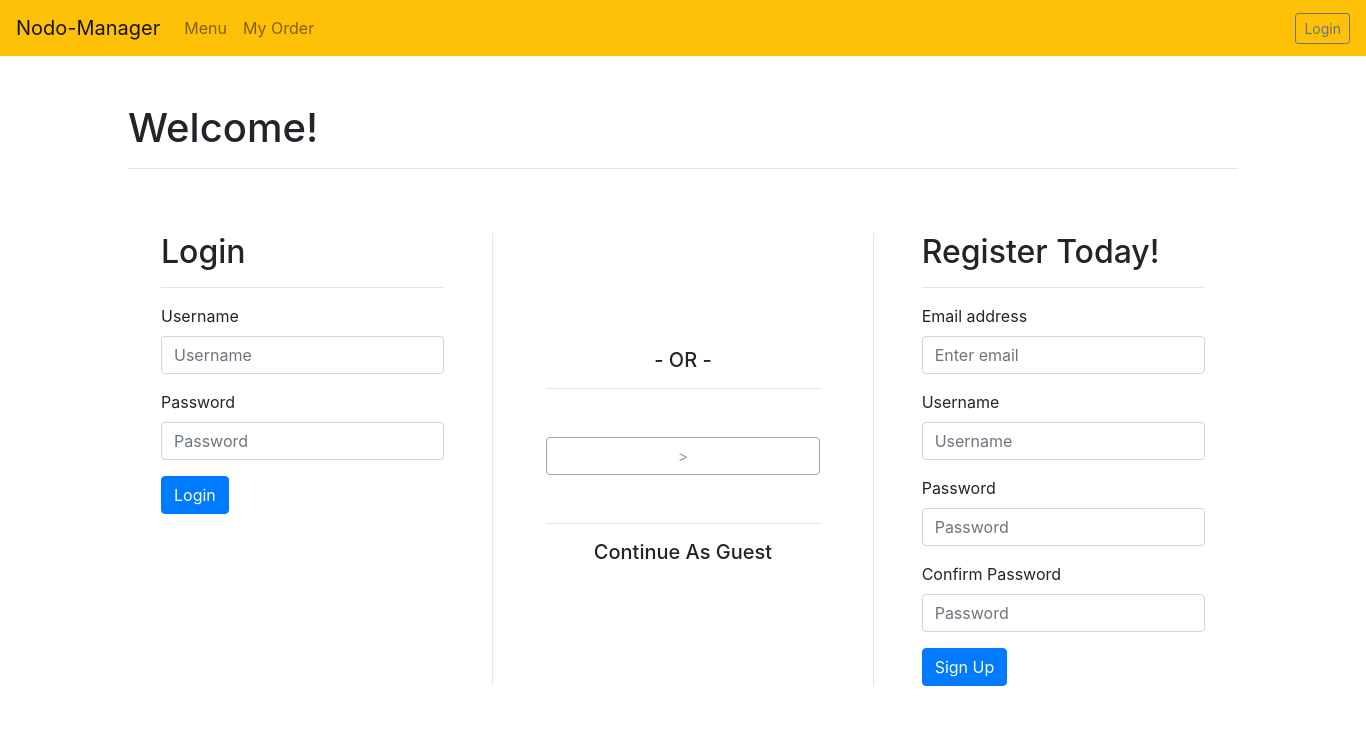
Test: Register Form Actions › Email Input › errors with no "@" symbol
Type "thereisnoathere" into the field with id "register-email".
click(1064, 355); type("thereisnoathere")  # box [922, 336, 1205, 374]
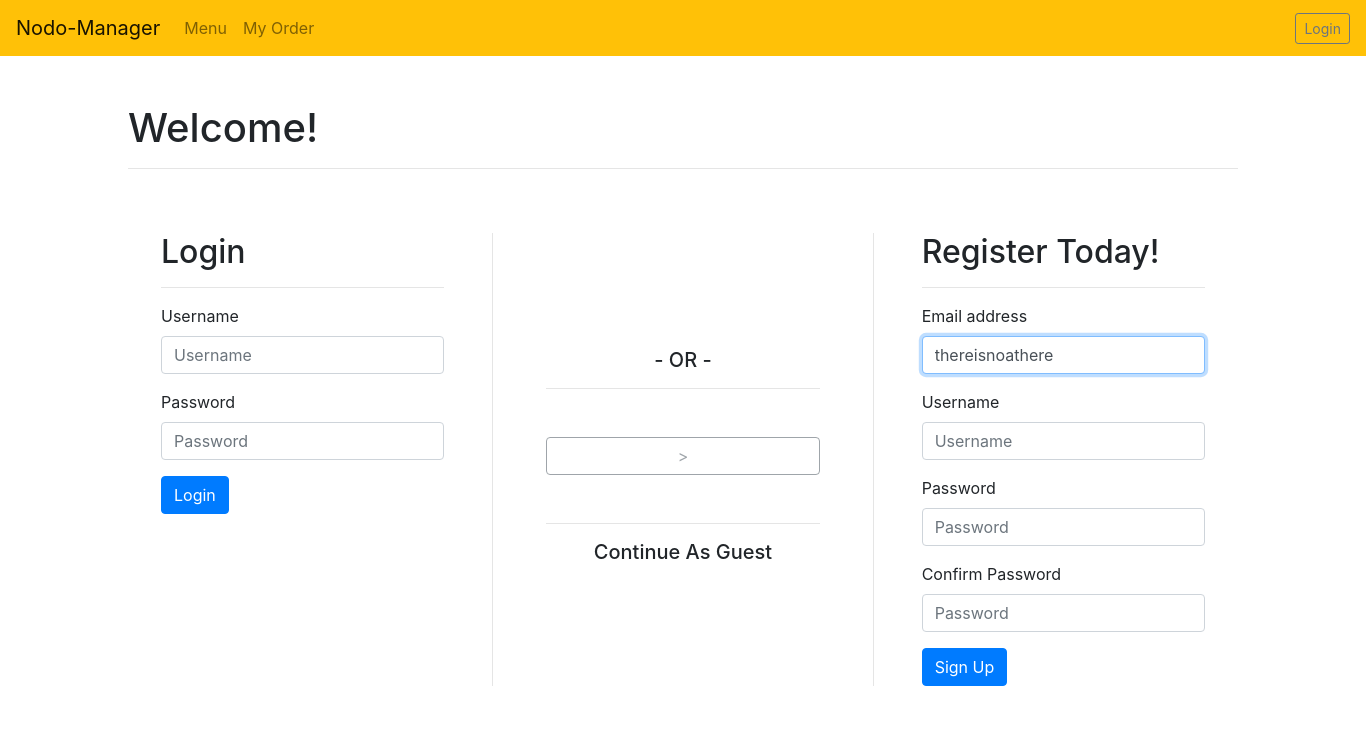
Click the button with id "register-submit-button".
click(965, 667)  # box [922, 648, 1008, 686]
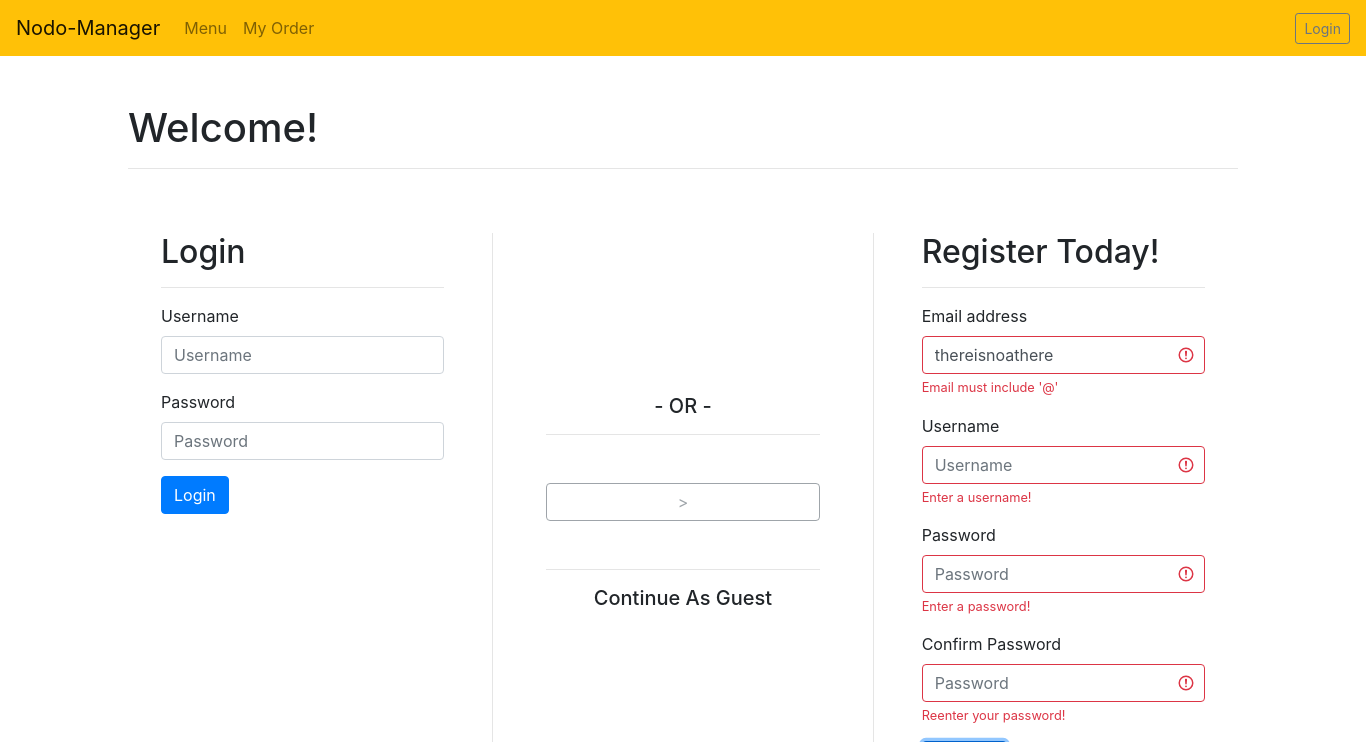
Check: the text "Email must include '@'" is shown, box [922, 380, 1058, 395]
